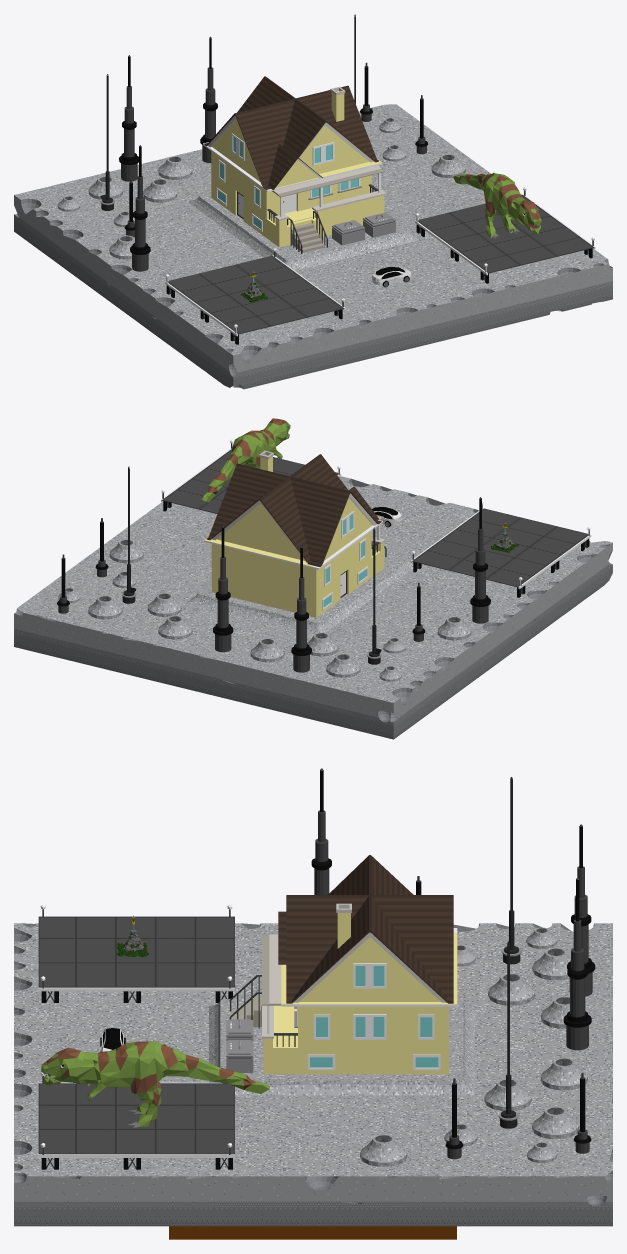
The picture shows the model from 3 angles, top to bottom: view 1: azimuth 30°, elevation 25°; view 2: azimuth 150°, elevation 25°; view 3: azimuth 270°, elevation 25°; orthographic projection. The views are drawn at different scales.
Parts seen in each view (by area): view 1: Cube.027, Cube.1555, Cube.025, Cube.026, Cube.028, ANIMAL_TREX, Cylinder.021, Cylinder.020, Cylinder.017, Cube.029, Cube.030, Cylinder.026 (+5 smaller); view 2: Cube.027, Cube.1555, Cube.025, Cube.028, Cube.026, ANIMAL_TREX, Cylinder.017, Cylinder.021, Cylinder.020, Cylinder.025, Cylinder.031, Cylinder.029 (+7 smaller); view 3: Cube.027, Cube.1555, Cube.025, Cube.026, Cube.028, ANIMAL_TREX, UNDERGROUND_ART_PIECE_VAN_GOGH, Cylinder.017, Cylinder.020, Cylinder.021, Cylinder.033, Cylinder.031 (+9 smaller).
Part boxes in pixels (x1=…): Cube.027: x1=14, y1=104, x2=612, y2=389; Cube.1555: x1=203, y1=76, x2=386, y2=253; Cube.025: x1=165, y1=248, x2=345, y2=344; Cube.026: x1=415, y1=187, x2=595, y2=283; Cube.028: x1=189, y1=192, x2=418, y2=270; ANIMAL_TREX: x1=453, y1=172, x2=541, y2=238; Cylinder.021: x1=130, y1=145, x2=150, y2=271; Cylinder.020: x1=119, y1=55, x2=138, y2=181; Cylinder.017: x1=200, y1=36, x2=217, y2=162; Cube.029: x1=332, y1=220, x2=364, y2=245; Cube.030: x1=363, y1=212, x2=395, y2=237; Cylinder.026: x1=143, y1=178, x2=177, y2=202; Cube.027: x1=14, y1=476, x2=612, y2=739; Cube.1555: x1=204, y1=450, x2=386, y2=617; Cube.025: x1=411, y1=501, x2=591, y2=597; Cube.028: x1=187, y1=553, x2=413, y2=634; Cube.026: x1=161, y1=440, x2=341, y2=513; ANIMAL_TREX: x1=202, y1=418, x2=290, y2=502; Cylinder.017: x1=213, y1=526, x2=233, y2=652; Cylinder.021: x1=470, y1=497, x2=490, y2=623; Cylinder.020: x1=291, y1=546, x2=311, y2=672; Cylinder.025: x1=437, y1=616, x2=471, y2=640; Cylinder.031: x1=88, y1=595, x2=122, y2=619; Cylinder.029: x1=158, y1=615, x2=192, y2=639; Cube.027: x1=14, y1=923, x2=612, y2=1226; Cube.1555: x1=229, y1=855, x2=457, y2=1074; Cube.025: x1=38, y1=904, x2=234, y2=1002; Cube.026: x1=38, y1=1072, x2=234, y2=1169; Cube.028: x1=209, y1=999, x2=474, y2=1095; ANIMAL_TREX: x1=41, y1=1041, x2=269, y2=1127; UNDERGROUND_ART_PIECE_VAN_GOGH: x1=169, y1=1226, x2=456, y2=1239; Cylinder.017: x1=563, y1=877, x2=591, y2=1050; Cylinder.020: x1=567, y1=824, x2=595, y2=996; Cylinder.021: x1=311, y1=768, x2=331, y2=894; Cylinder.033: x1=360, y1=1134, x2=407, y2=1166; Cylinder.031: x1=532, y1=1106, x2=579, y2=1138.
Bounding box in the file's own units: 4000 × 1925 × 4000.
Materials: 42 (5 with a texture image).
